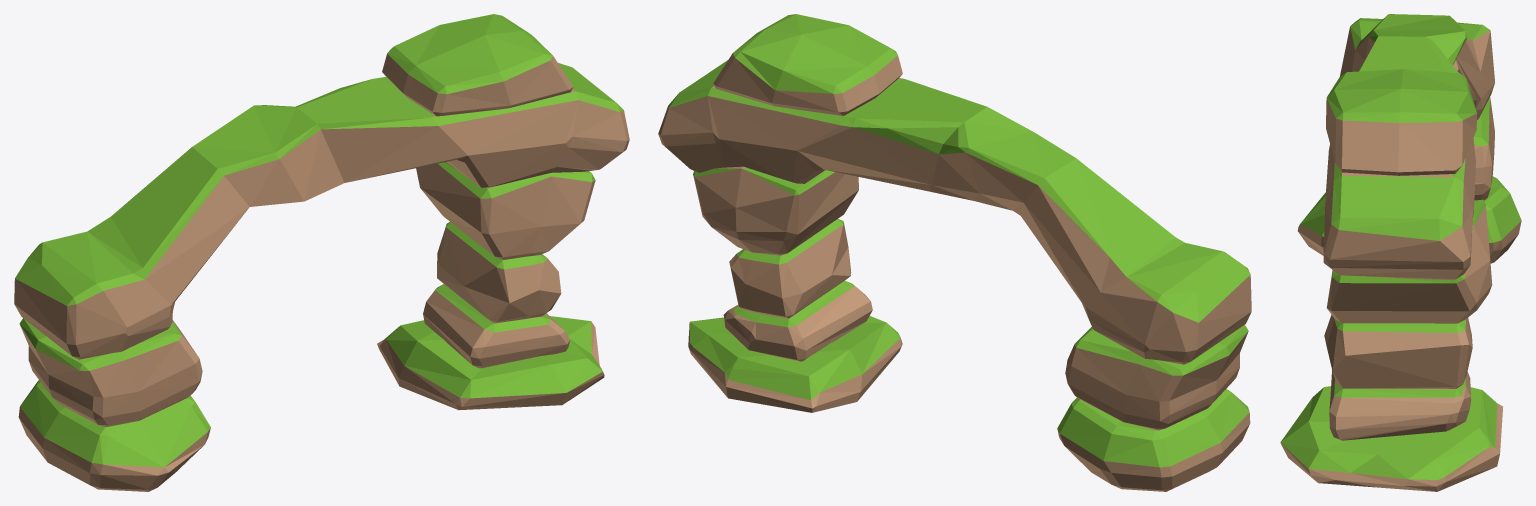
Rendered from Rock_6.fbx.
3 renders of one model, left to right at view 1: azimuth 30°, elevation 25°; view 2: azimuth 150°, elevation 25°; view 3: azimuth 270°, elevation 25°, orthographic. The views are drawn at different scales.
Parts seen in each view (by area): view 1: Rock_6; view 2: Rock_6; view 3: Rock_6.
Boxes of the visible parts, box(x1,y1,x2,y2) form: Rock_6: box(14, 14, 629, 491); Rock_6: box(658, 14, 1251, 491); Rock_6: box(1280, 14, 1521, 491).
Bounding box in the file's own units: 16.34 × 9.63 × 5.77.
